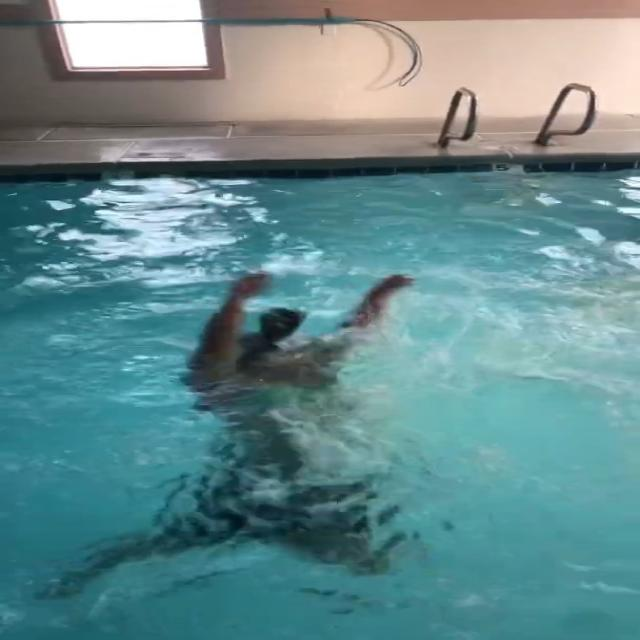Drowning: (53, 266, 531, 590)
